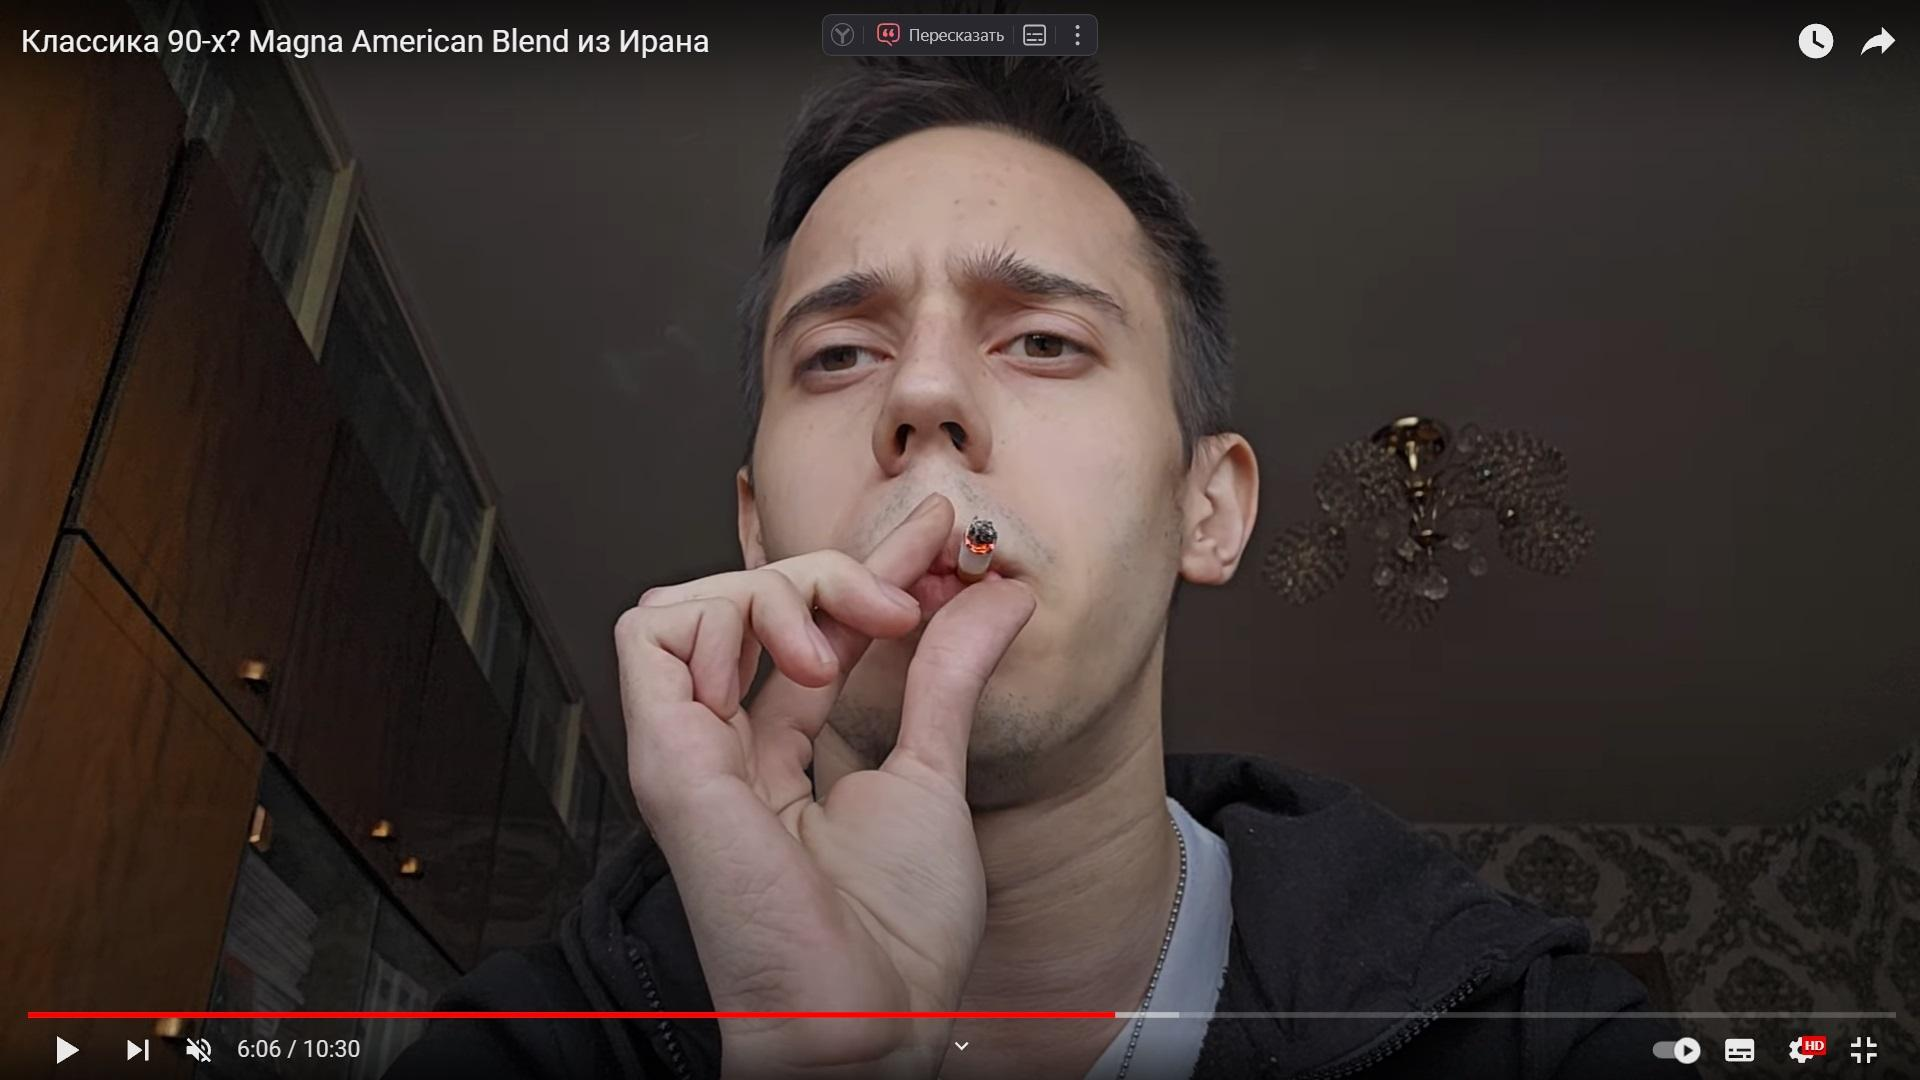cigarette: (956, 520, 998, 585)
